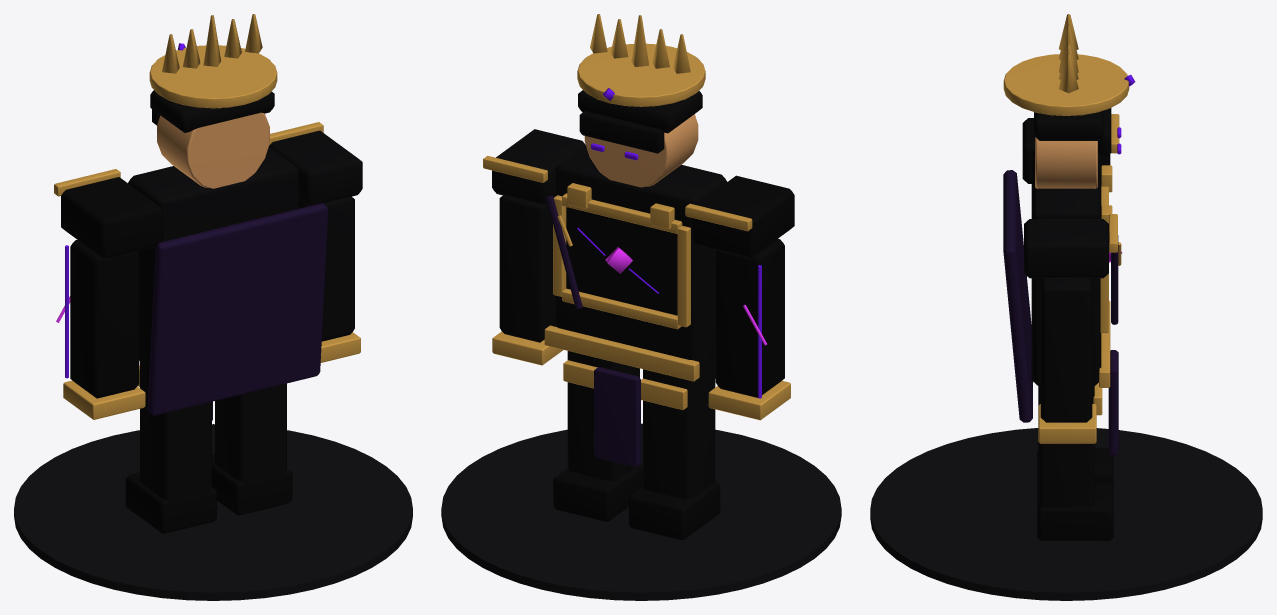
Rendered from crownbound_challenger_v4_rig_ready.obj.
3 renders of one model, left to right at view 1: azimuth 30°, elevation 25°; view 2: azimuth 150°, elevation 25°; view 3: azimuth 270°, elevation 25°, orthographic.
Visible parts, largest first — view 1: Preview_Base_Disc, Accessory_ShortRoyalCape, Right_Arm, Torso, Right_Leg, Accessory_Shoulder_R_Corrupted, Left_Leg, Head, Accessory_Crown_Circlet, Accessory_Shoulder_L, Left_Arm, Accessory_Boot_R (+7 smaller); view 2: Preview_Base_Disc, Torso, Right_Arm, Right_Leg, Left_Arm, Accessory_Shoulder_R_Corrupted, Accessory_Crown_Circlet, Accessory_RoyalWaistCloth, Head, Left_Leg, Accessory_Shoulder_L, Accessory_Boot_R (+18 smaller); view 3: Preview_Base_Disc, Left_Arm, Accessory_Crown_Circlet, Accessory_Shoulder_L, Accessory_ShortRoyalCape, Torso, Left_Leg, Accessory_Boot_L, Head, Accessory_Hair_ShadowCap, Accessory_WristGold_L, Accessory_RoyalWaistCloth (+4 smaller).
Boxes of the visible parts, x1,y1,x2,y2 form: Preview_Base_Disc: [14, 424, 412, 600]; Accessory_ShortRoyalCape: [147, 203, 328, 415]; Right_Arm: [70, 240, 139, 398]; Torso: [128, 147, 299, 367]; Right_Leg: [140, 361, 211, 502]; Accessory_Shoulder_R_Corrupted: [61, 177, 162, 259]; Left_Leg: [215, 383, 286, 484]; Head: [157, 108, 269, 188]; Accessory_Crown_Circlet: [149, 45, 277, 108]; Accessory_Shoulder_L: [269, 130, 362, 205]; Left_Arm: [299, 196, 354, 341]; Accessory_Boot_R: [125, 472, 216, 533]; Preview_Base_Disc: [441, 423, 841, 600]; Torso: [555, 145, 726, 371]; Right_Arm: [715, 239, 784, 397]; Right_Leg: [643, 361, 715, 499]; Left_Arm: [499, 195, 555, 342]; Accessory_Shoulder_R_Corrupted: [692, 175, 794, 258]; Accessory_Crown_Circlet: [577, 43, 705, 106]; Accessory_RoyalWaistCloth: [594, 367, 640, 466]; Head: [584, 114, 698, 187]; Left_Leg: [567, 351, 639, 480]; Accessory_Shoulder_L: [492, 129, 585, 205]; Accessory_Boot_R: [628, 481, 720, 539]; Preview_Base_Disc: [870, 428, 1262, 600]; Left_Arm: [1040, 278, 1092, 422]; Accessory_Crown_Circlet: [1003, 54, 1129, 115]; Accessory_Shoulder_L: [1024, 219, 1108, 278]; Accessory_ShortRoyalCape: [1003, 170, 1032, 422]; Torso: [1031, 149, 1101, 386]; Left_Leg: [1038, 386, 1094, 507]; Accessory_Boot_L: [1037, 483, 1113, 540]; Head: [1035, 137, 1097, 188]; Accessory_Hair_ShadowCap: [1034, 110, 1103, 140]; Accessory_WristGold_L: [1038, 404, 1096, 443]; Accessory_RoyalWaistCloth: [1108, 350, 1118, 456].
Size of the model in its own units: 3.5 by 4.84 by 3.5.
